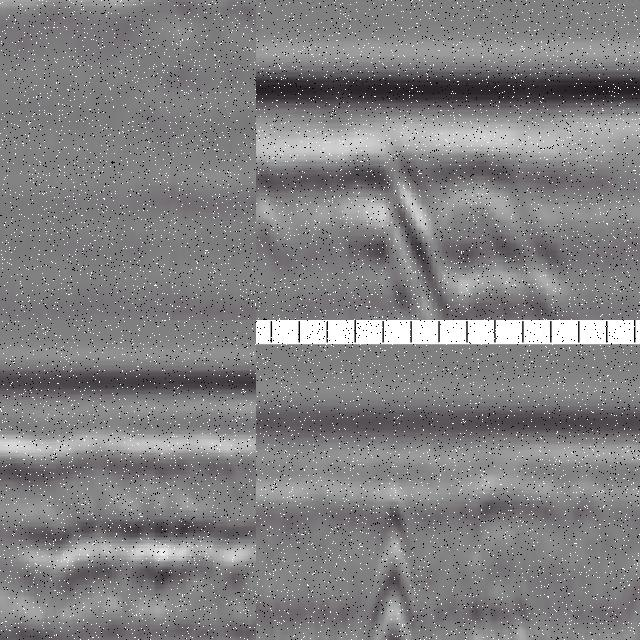crack: (350, 131, 437, 321), (371, 478, 417, 640)
loose: (32, 515, 257, 605)
